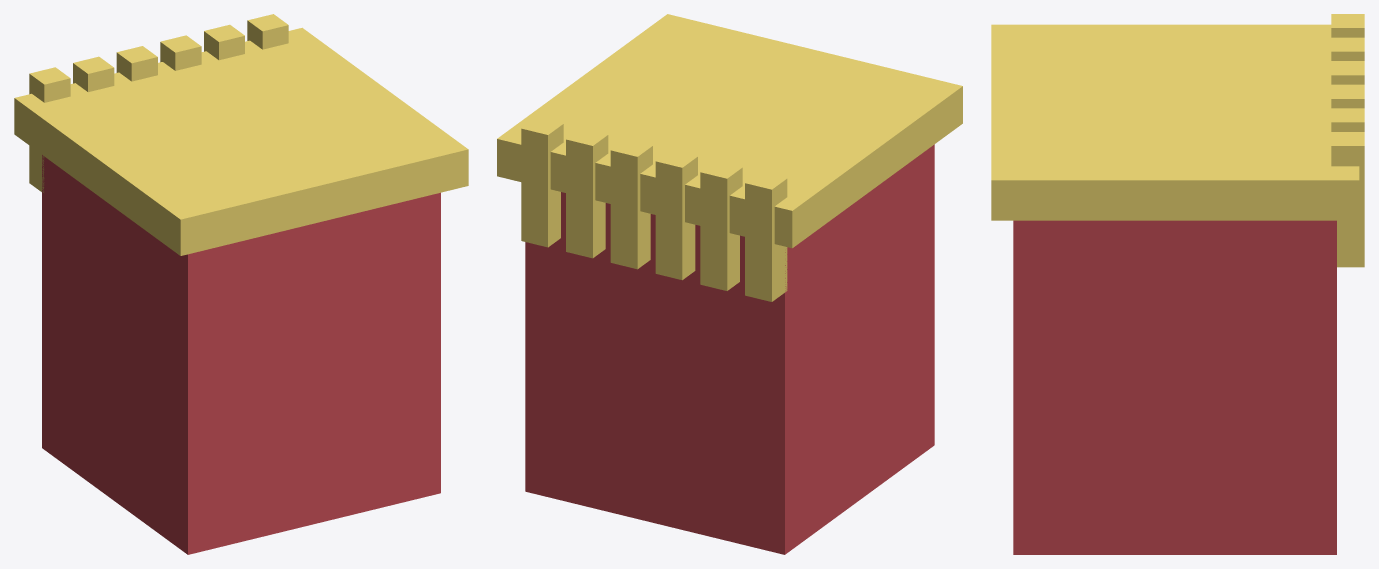
The model's file is oficial_vermelho_manga_sup.glb.
3 renders of one model, left to right at view 1: azimuth 30°, elevation 25°; view 2: azimuth 150°, elevation 25°; view 3: azimuth 270°, elevation 25°, orthographic. The views are drawn at different scales.
Visible parts, largest first — view 1: oficial_vermelho_manga_sup; view 2: oficial_vermelho_manga_sup; view 3: oficial_vermelho_manga_sup.
Boxes of the visible parts, x1,y1,x2,y2 form: oficial_vermelho_manga_sup: (14, 14, 468, 554); oficial_vermelho_manga_sup: (497, 14, 962, 554); oficial_vermelho_manga_sup: (991, 14, 1364, 554).
Size of the model in its own units: 0.33 by 0.4 by 0.335.
